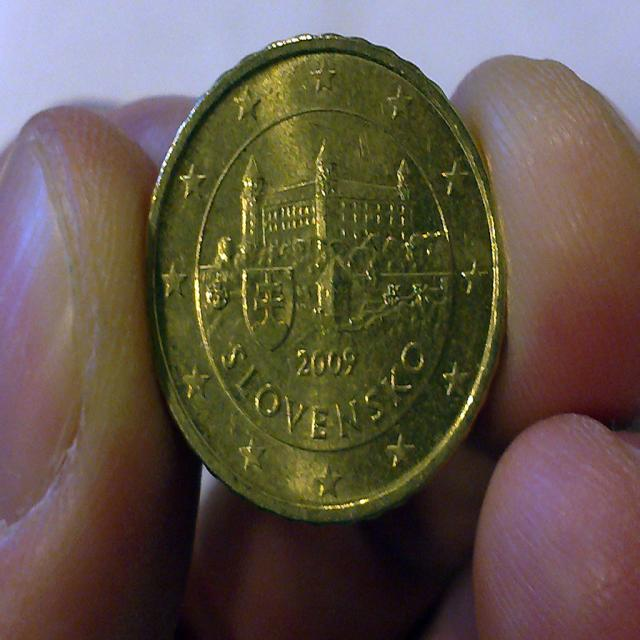Coin: (141, 26, 509, 525)
